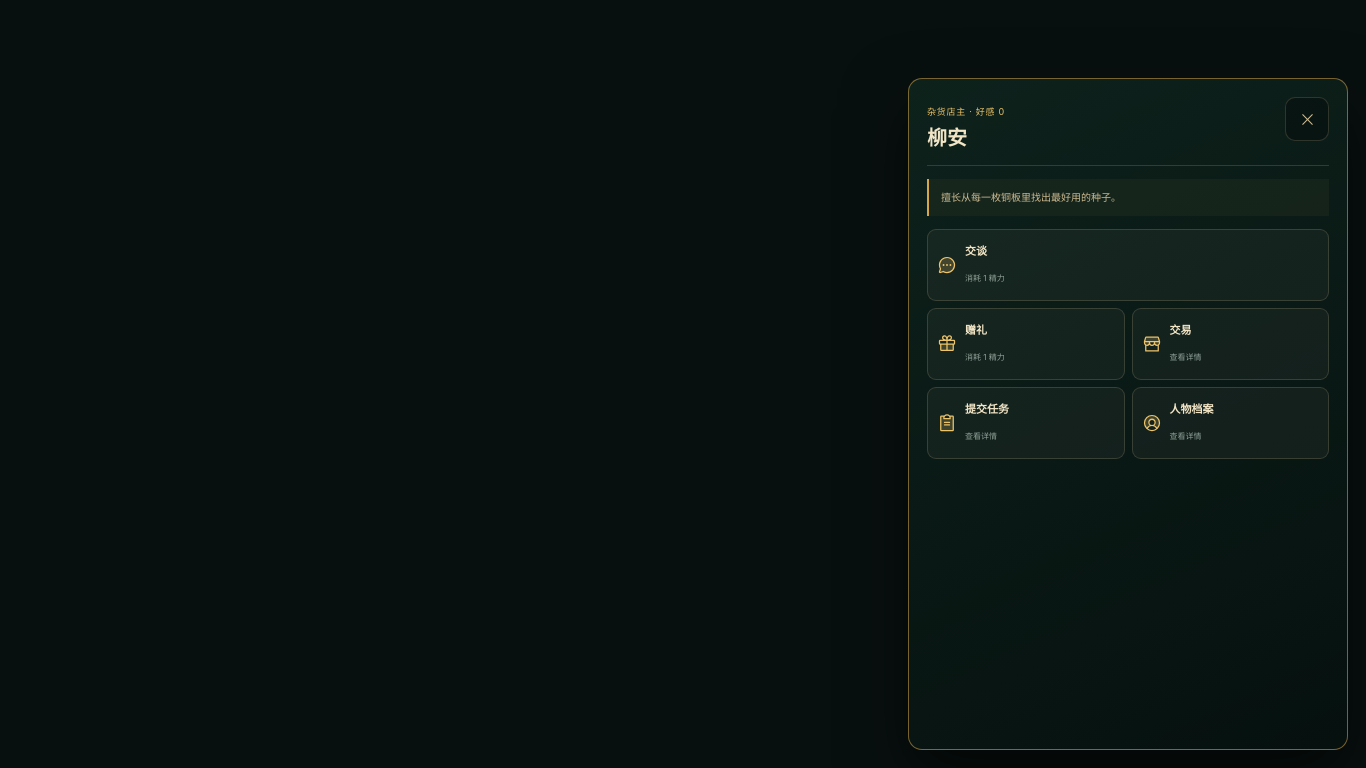
Test: NPC 关系与灵犀对话 › 人物档案展示生日、当前地点与当前活动
The image size is (1366, 768).
Click the button with aria-label "查看柳安人物档案": {"x": 1230, "y": 422} [1132,386,1329,458]
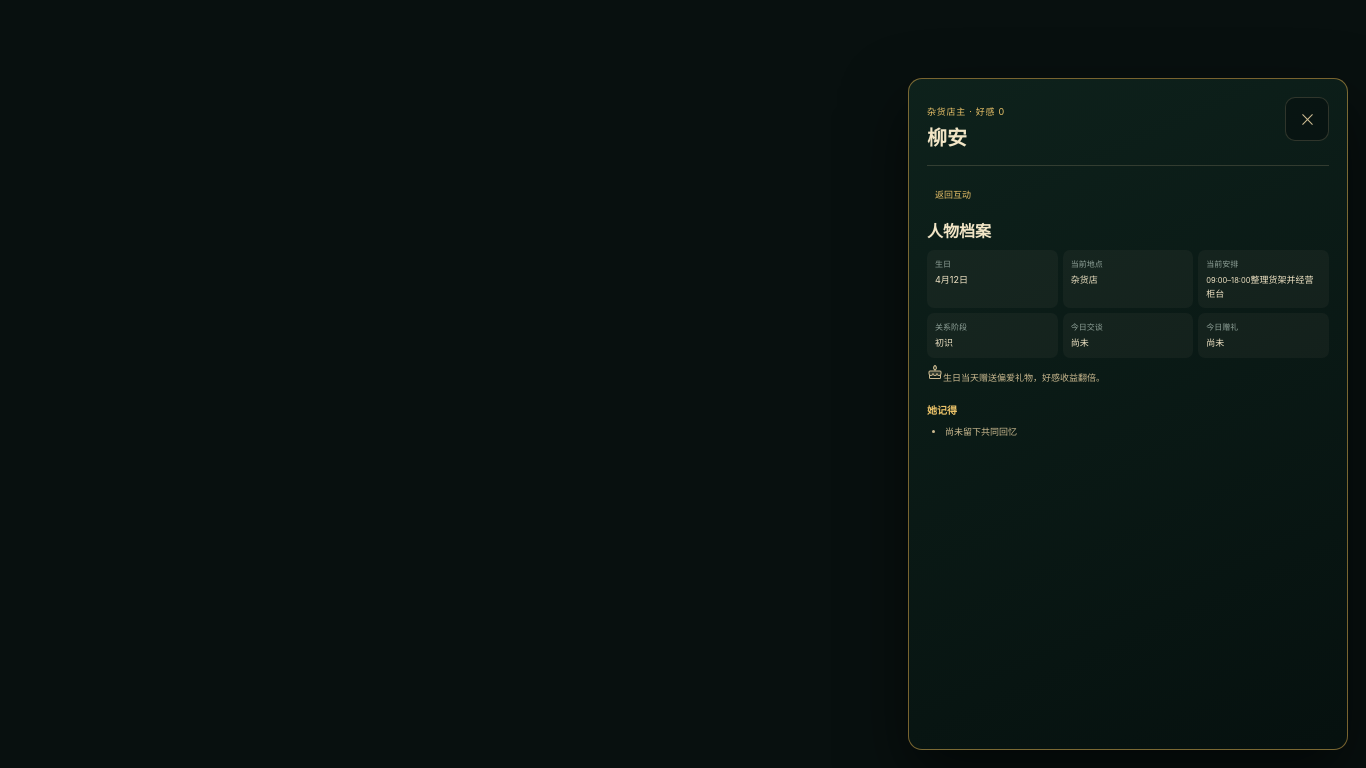
Check: the text "4月12日" is shown, box [935,274,968,285]
Check: the text "杂货店" is shown, box [1071,274,1098,285]
Check: the text "整理货架并经营柜台" is shown, box [1206,274,1313,298]
